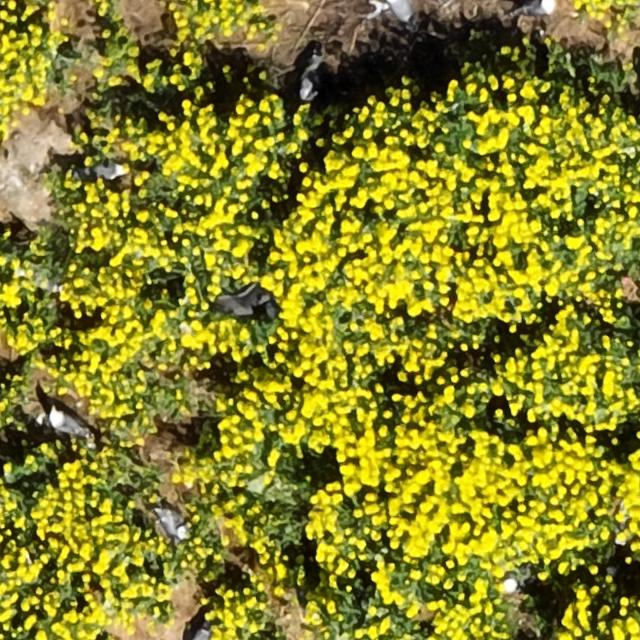umineko: (157, 508, 185, 539), (49, 411, 83, 435), (498, 568, 523, 593), (386, 1, 413, 24), (88, 163, 123, 179), (520, 0, 553, 14), (190, 626, 210, 640)
